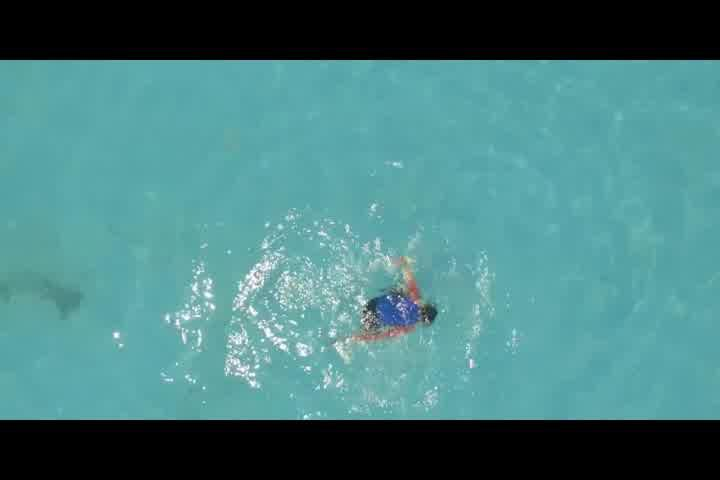human: (344, 252, 441, 348)
